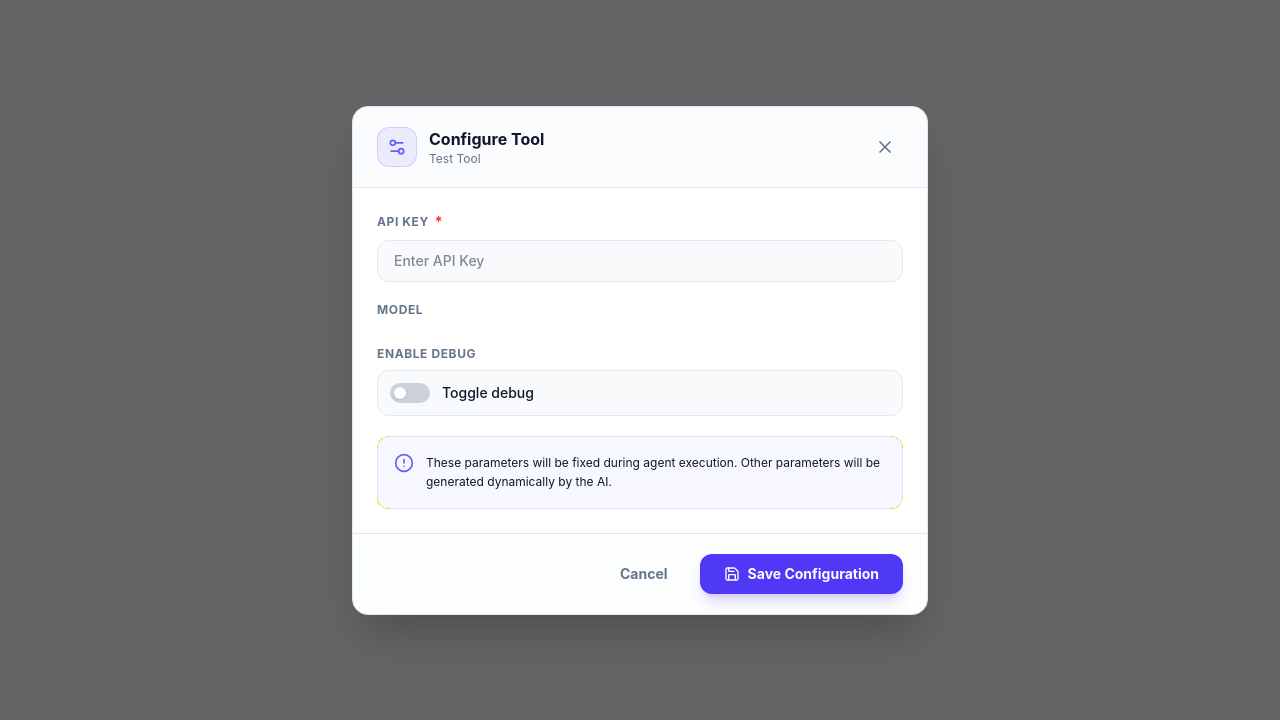
Test: ToolConfigurationModal › validates required fields
The width and height of the screenshot is (1280, 720).
Click the button "Save Configuration" at (801, 574), box [700,554,903,594]
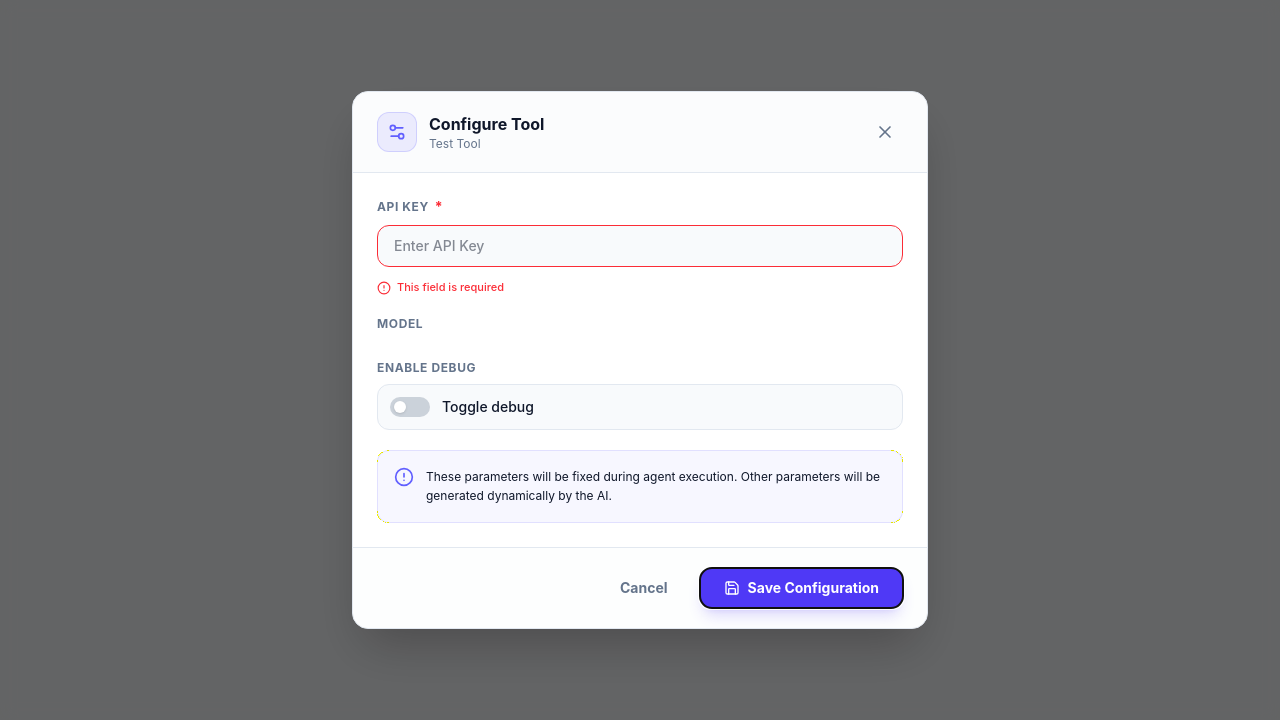
Now the text "This field is required" is shown, box [397,279,504,296]
